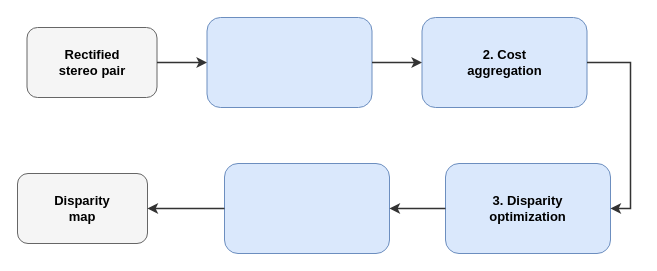
The diagram is 657 pixels wide and 271 high, and some of its shapes have lost their labels. The centre of each missing label's shape, as x and y in pixels:
"1. Matching cost computation" goes at point (289, 62).
"4. Disparity refinement" goes at point (307, 208).
